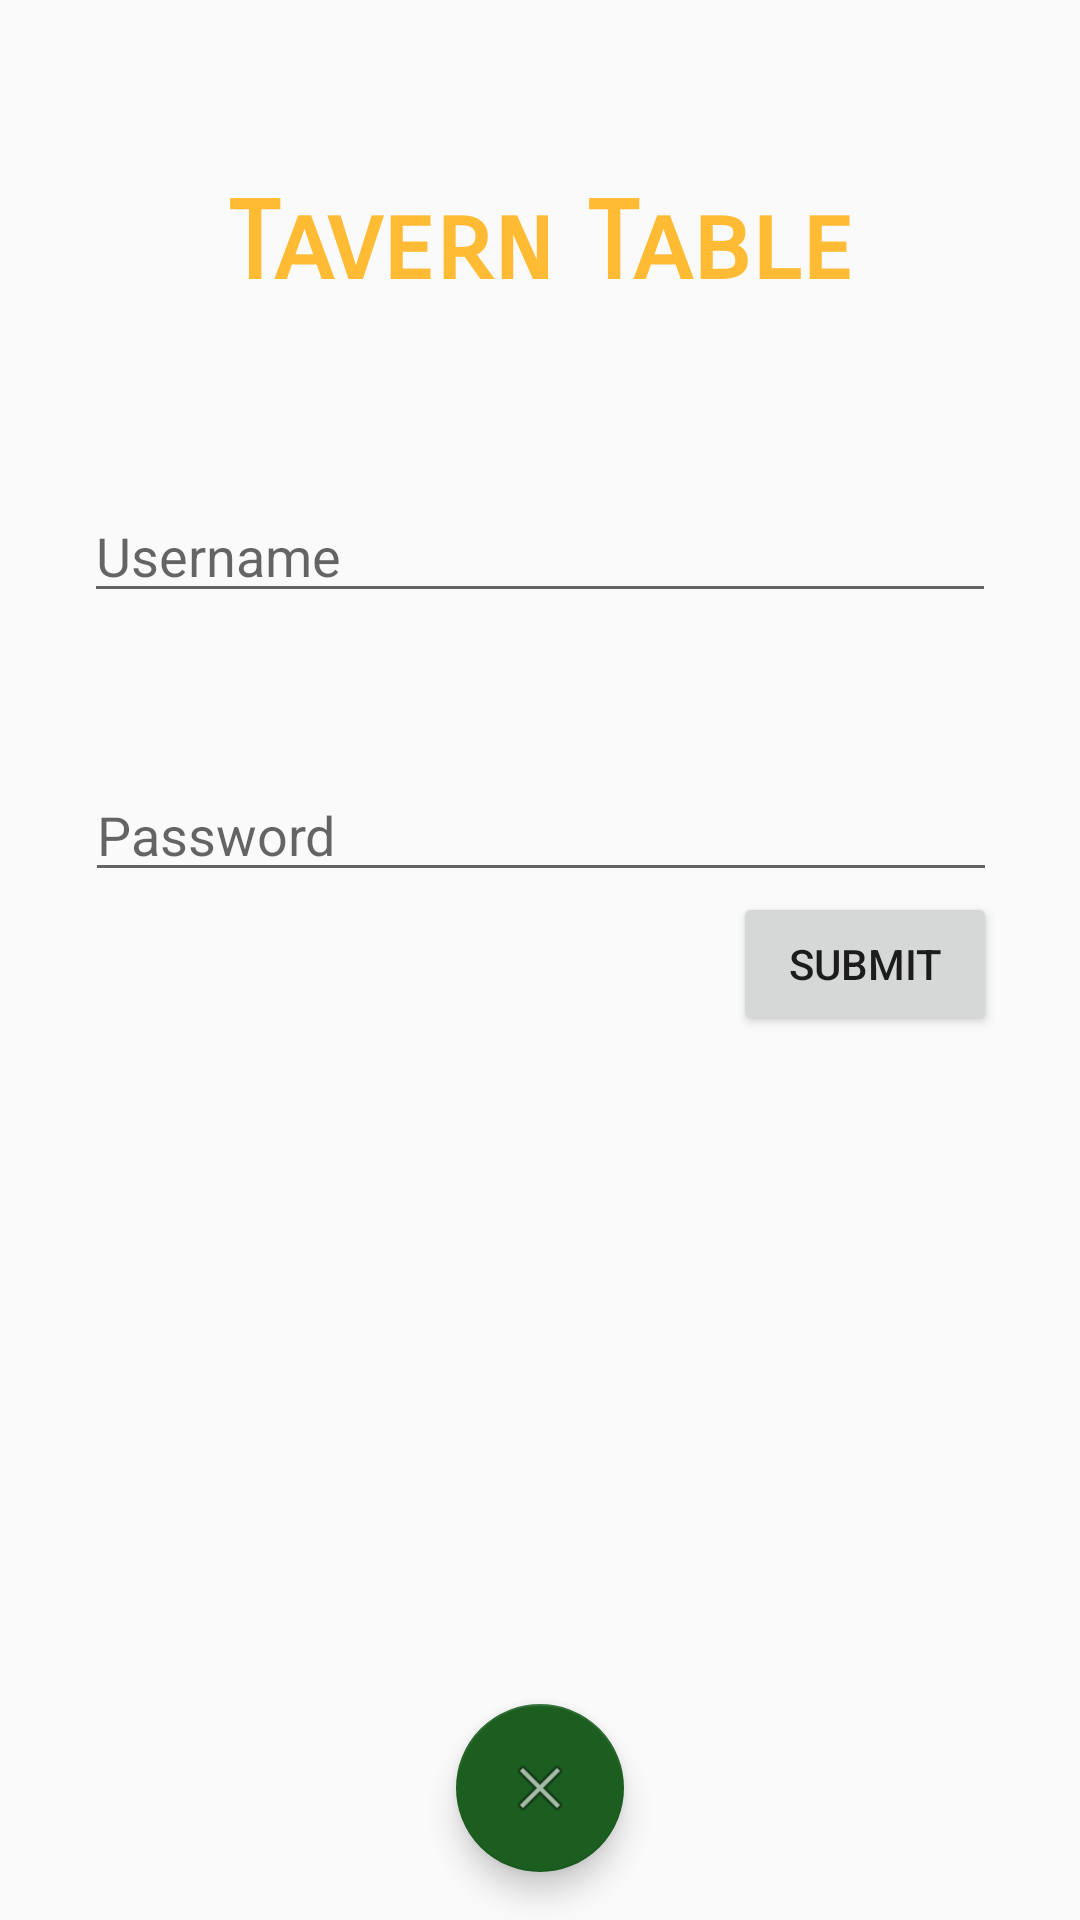

Icons on this 1080w x 1920h Android screen, each with its box as (x1, y1, x2, y2):
close clear cancel: (456, 1704, 624, 1872)
